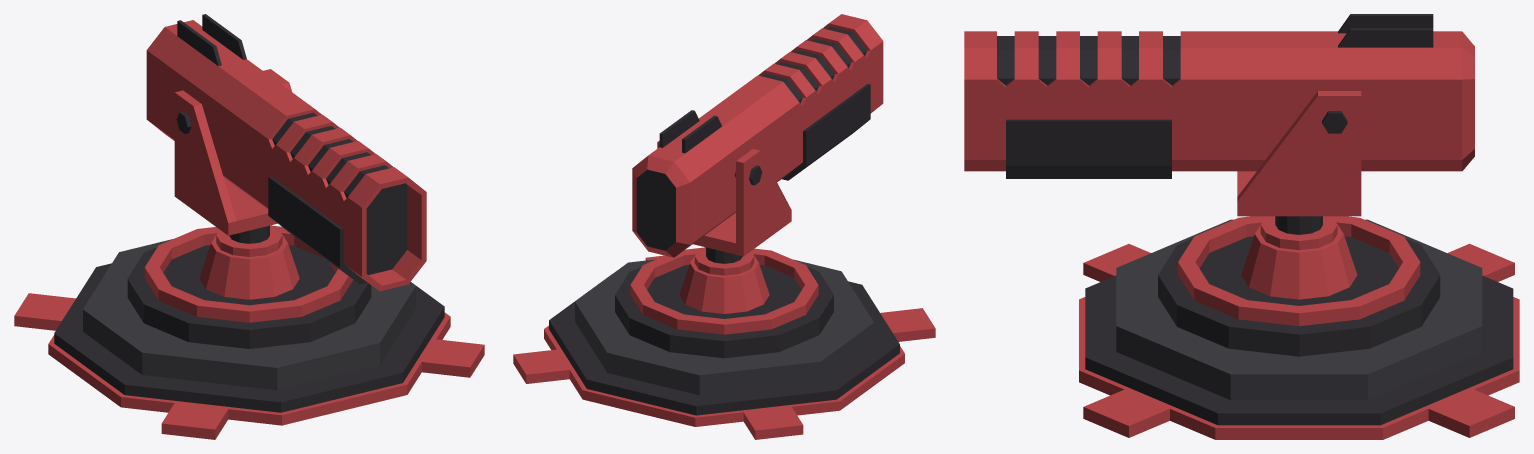
File: scout.fbx
3 renders of one model, left to right at view 1: azimuth 30°, elevation 25°; view 2: azimuth 150°, elevation 25°; view 3: azimuth 270°, elevation 25°, orthographic. The views are drawn at different scales.
Visible parts, largest first — view 1: Cube.010, Cube.009; view 2: Cube.010, Cube.009; view 3: Cube.010, Cube.009.
Part boxes in pixels (x1,y1,x2,y2): Cube.010: [14, 225, 484, 439]; Cube.009: [146, 14, 426, 291]; Cube.010: [513, 247, 935, 439]; Cube.009: [632, 14, 883, 263]; Cube.010: [1079, 216, 1519, 439]; Cube.009: [964, 14, 1474, 234].
Size of the model in its own units: 181 by 147 by 228.
